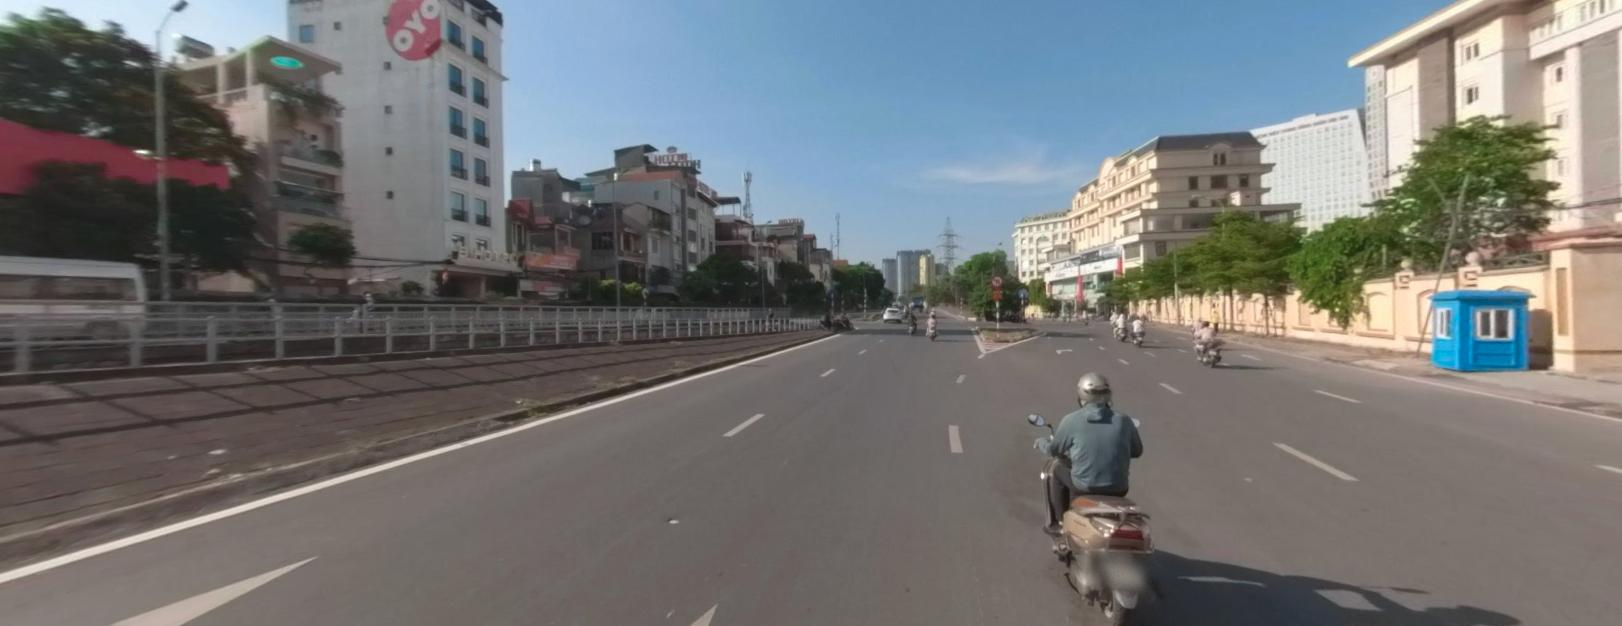Cam re: (991, 274, 1003, 286)
Nguy hiem: (991, 288, 1003, 297)
